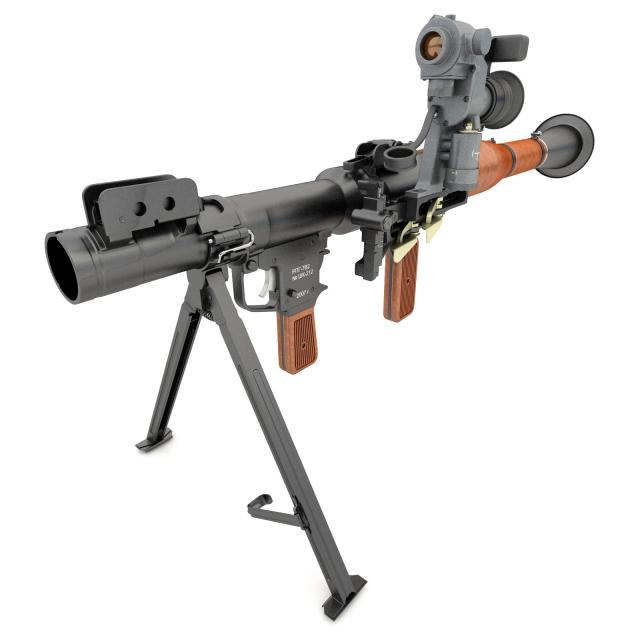Gun: (31, 38, 615, 602)
